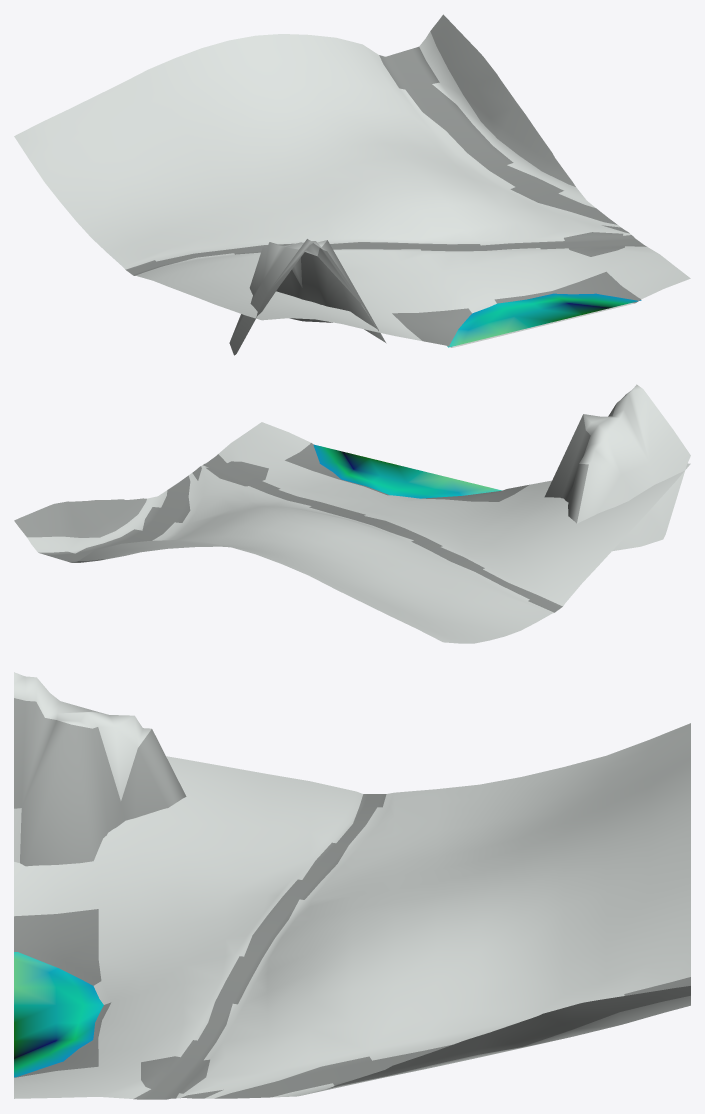
3 views of the same model, one above another, from view 1: azimuth 30°, elevation 25°; view 2: azimuth 150°, elevation 25°; view 3: azimuth 270°, elevation 25° (orthographic). The views are drawn at different scales.
Visible parts, largest first — view 1: G:\FFXIV-MapTools\exports\r1f1\bg\ffxiv\roc_r1\fld\r1f1\bgpl (×9); view 2: G:\FFXIV-MapTools\exports\r1f1\bg\ffxiv\roc_r1\fld\r1f1\bgpl (×9); view 3: G:\FFXIV-MapTools\exports\r1f1\bg\ffxiv\roc_r1\fld\r1f1\bgpl (×9).
Boxes of the visible parts, bbox=[...] form: G:\FFXIV-MapTools\exports\r1f1\bg\ffxiv\roc_r1\fld\r1f1\bgpl (×9): bbox=[14, 14, 690, 355]; G:\FFXIV-MapTools\exports\r1f1\bg\ffxiv\roc_r1\fld\r1f1\bgpl (×9): bbox=[14, 384, 690, 643]; G:\FFXIV-MapTools\exports\r1f1\bg\ffxiv\roc_r1\fld\r1f1\bgpl (×9): bbox=[14, 672, 690, 1099].
Bounding box in the file's own units: 128 × 40.02 × 128.
